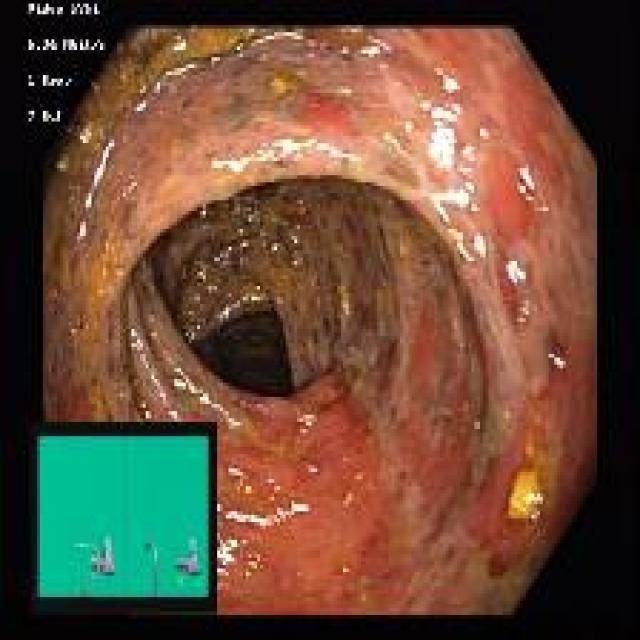ulcerative-colitis: (44, 28, 596, 615)
